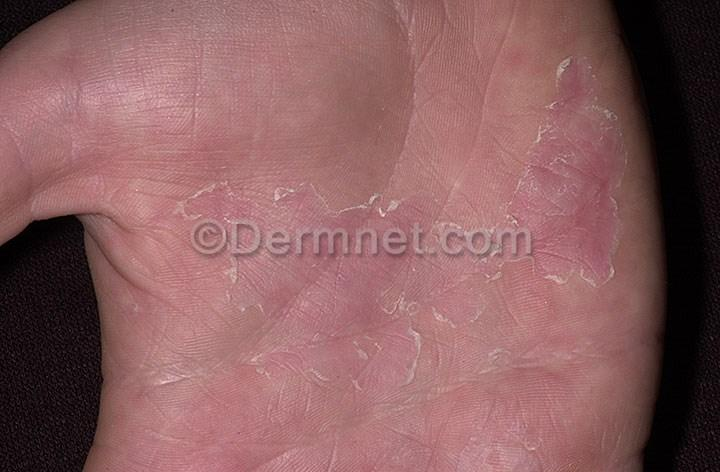Eczema: (185, 266, 512, 409), (538, 50, 623, 236), (150, 175, 452, 225), (534, 239, 639, 308), (490, 161, 538, 216)
